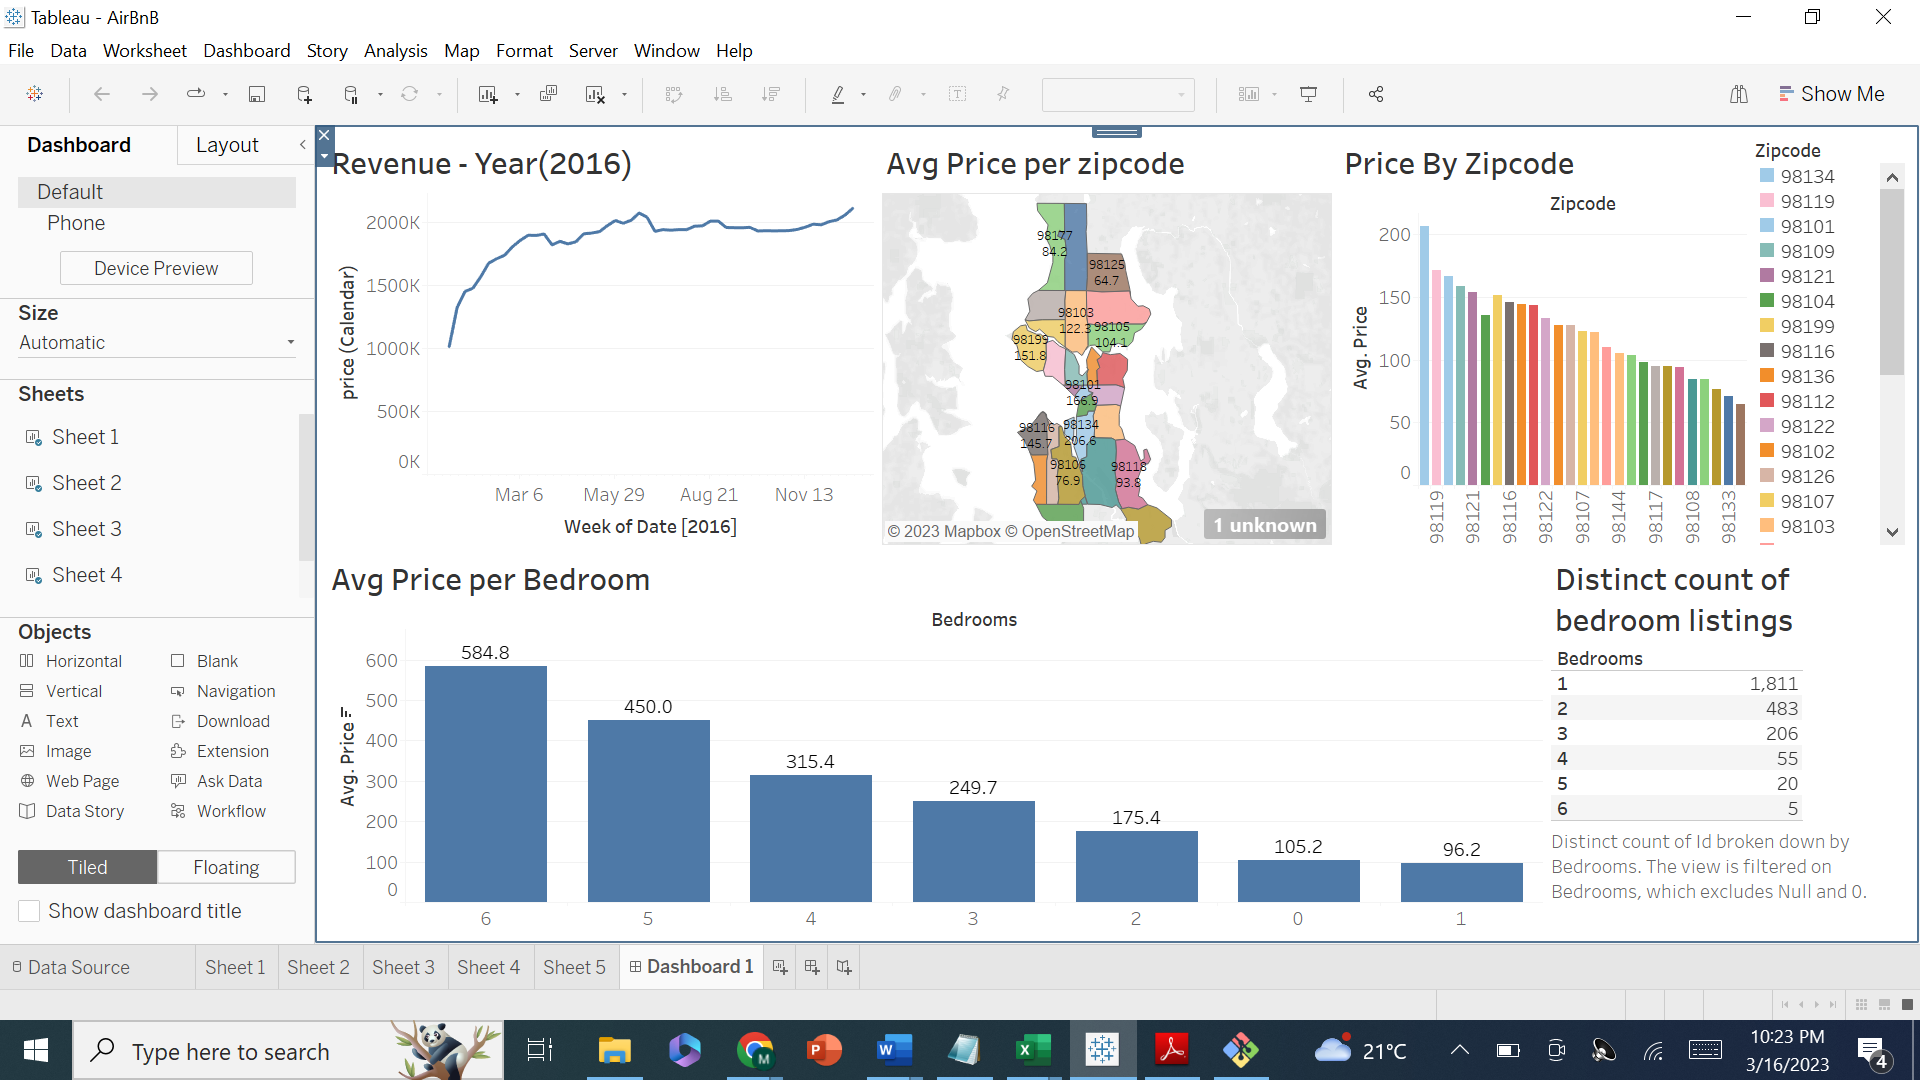

This screenshot's page, from the dashboard's own definition file:
{"tool":"tableau","page":{"name":"Dashboard 1","canvas":[1000,1000],"units":"permille","ordinal":0},"visuals":[{"type":"worksheet","title":"Sheet 3","mark":"Automatic","rows":["price (Calendar)"],"cols":["date"],"box":[5,9.8,346,508.6]},{"type":"worksheet","title":"Sheet 2","mark":"Multipolygon","box":[351,9.8,285.5,508.6]},{"type":"worksheet","title":"Sheet 1","mark":"Automatic","rows":["price"],"cols":["zipcode"],"box":[636.5,9.8,258.7,508.6]},{"type":"legend","title":"Sheet 1","param":"[federated.012k7b81rw9ko311agjy412fblau].[none:zipcode:ok]","box":[895.3,9.8,99.8,508.6]},{"type":"worksheet","title":"Sheet 4","mark":"Automatic","rows":["price"],"cols":["bedrooms"],"box":[5,518.3,763.1,471.9]},{"type":"worksheet","title":"Sheet 5","mark":"Automatic","rows":["bedrooms"],"box":[768.1,518.3,226.9,471.9]}]}

Visuals, with their boxes on the dashboard's canvas, which has no fixed pixel size, in thousandths of its width and height (x1, y1, x2, y2). These are canvas units, not pixel positions in the 1920x1080 screenshot, which may show the page scaled, cropped or inside an application window:
"Sheet 3" worksheet: <box>5,10,351,518</box>
"Sheet 2" worksheet (Multipolygon marks): <box>351,10,636,518</box>
"Sheet 1" worksheet: <box>636,10,895,518</box>
"Sheet 1" legend: <box>895,10,995,518</box>
"Sheet 4" worksheet: <box>5,518,768,990</box>
"Sheet 5" worksheet: <box>768,518,995,990</box>
